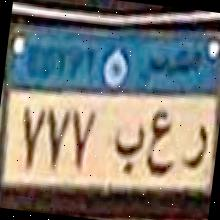7: (64, 102, 100, 172), (14, 106, 45, 170), (40, 106, 70, 171)
ain: (142, 104, 178, 181)
baa: (110, 118, 148, 176)
raa: (181, 118, 213, 177)
